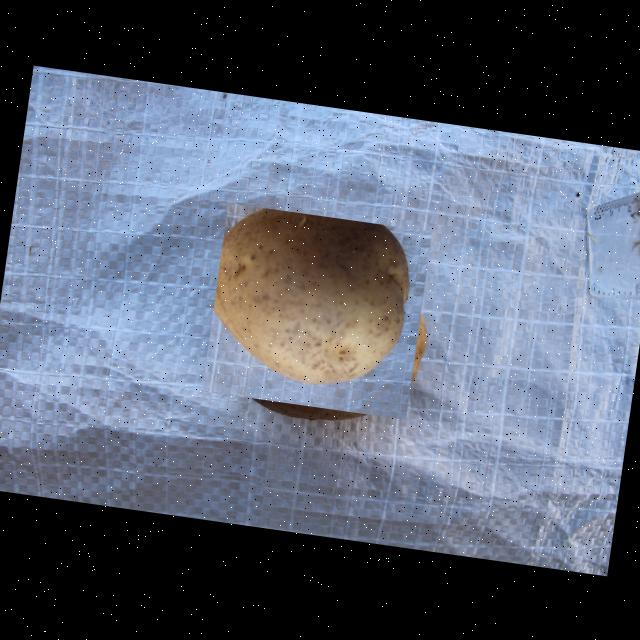Diseased-fungal potato: (202, 202, 432, 419)
